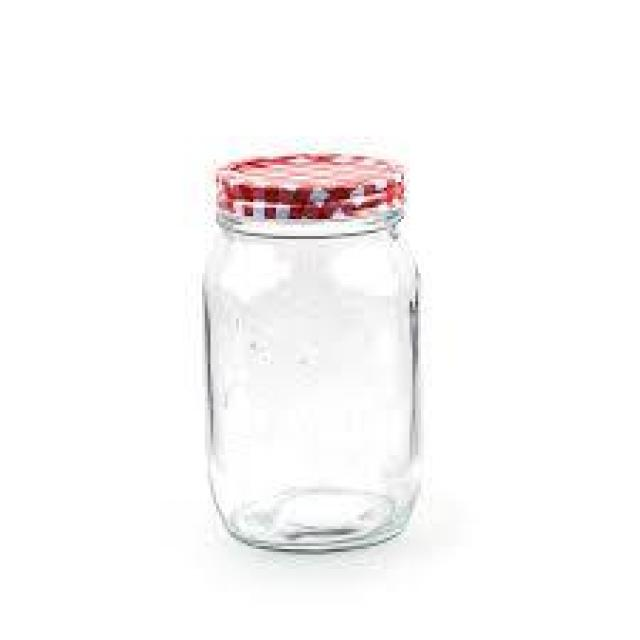non-organic waste: (198, 152, 425, 553)
